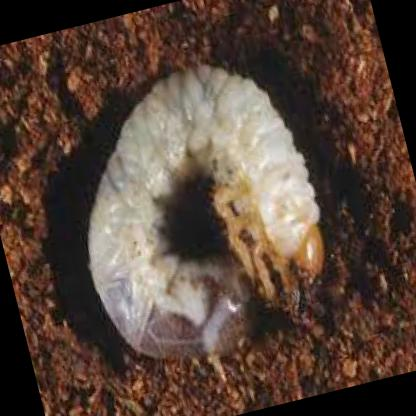root grubs: (91, 67, 324, 366)
